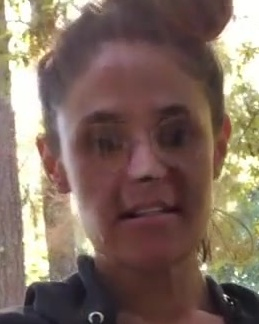n_f: (127, 128, 171, 190)
